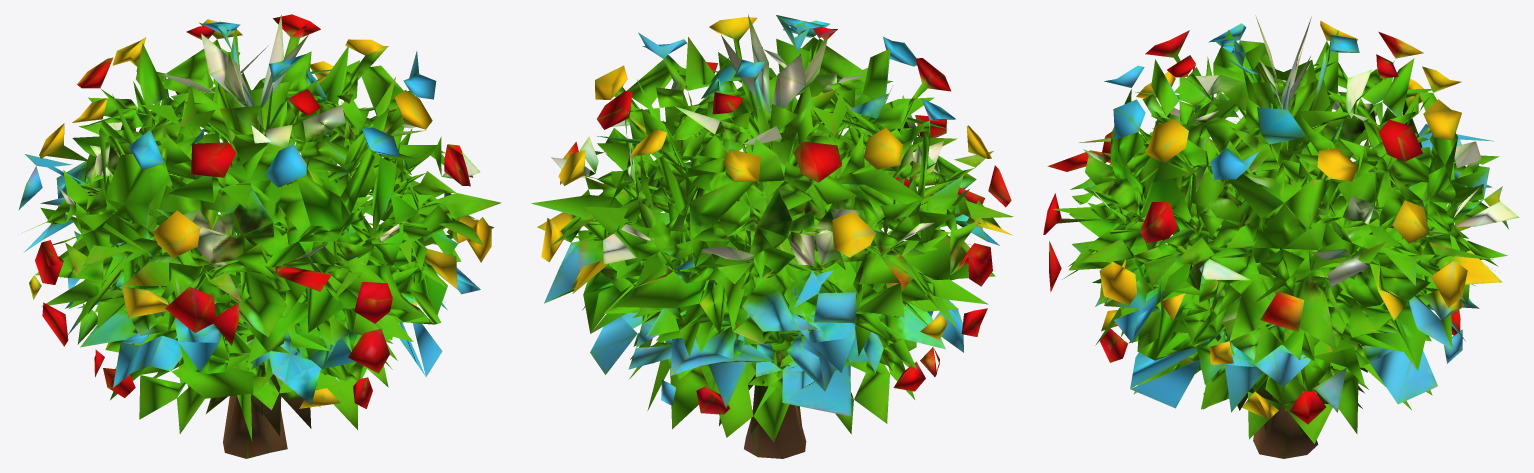
File: flower_bush.glb
The picture shows the model from 3 angles, left to right: view 1: azimuth 30°, elevation 25°; view 2: azimuth 150°, elevation 25°; view 3: azimuth 270°, elevation 25°; orthographic projection.
Size of the model in its own units: 1.89 by 1.78 by 1.87.
1 material, 1 textured.
